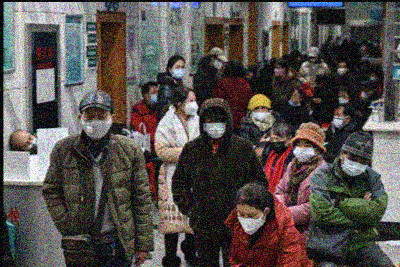mask_weared_incorrect: (288, 92, 302, 107)
with_mask: (79, 111, 112, 140), (235, 208, 264, 235), (341, 154, 369, 177), (201, 116, 227, 140), (292, 139, 315, 164), (268, 136, 287, 155), (22, 132, 37, 155), (251, 104, 268, 122), (182, 97, 198, 116), (331, 110, 345, 128), (172, 63, 186, 79), (336, 61, 348, 75), (148, 88, 157, 106), (211, 57, 223, 69), (361, 84, 369, 100), (273, 64, 282, 77), (338, 92, 347, 104), (369, 71, 377, 83), (314, 82, 323, 92), (308, 54, 316, 63)
